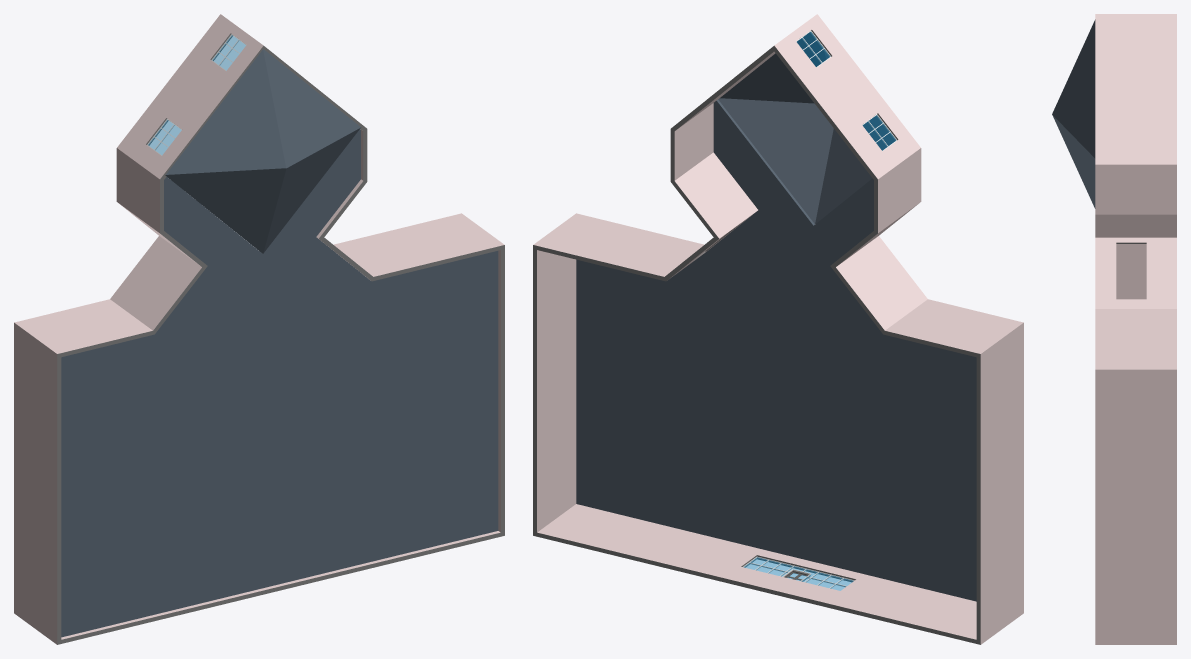
Rendered from williamEmslie.obj.
The picture shows the model from 3 angles, left to right: view 1: azimuth 30°, elevation 25°; view 2: azimuth 150°, elevation 25°; view 3: azimuth 270°, elevation 25°; orthographic projection. The views are drawn at different scales.
Visible parts, largest first — view 1: Generic - 12", Generic - 12":1, Generic - 12":2, CMU Assembly_01 SQUARE 4x4 tile exterior, CMU Assembly_01 SQUARE 4x4 tile exterior:10, CMU Assembly_01 SQUARE 4x4 tile exterior:4, CMU Assembly_01 SQUARE 4x4 tile exterior:7, CMU Assembly_01 SQUARE 4x4 tile exterior:8, CMU Assembly_01 SQUARE 4x4 tile exterior:13, CMU Assembly_01 SQUARE 4x4 tile exterior:1, CMU Assembly_01 SQUARE 4x4 tile exterior:5, CMU Assembly_01 SQUARE 4x4 tile exterior:2; view 2: Generic - 12", CMU Assembly_01 SQUARE 4x4 tile exterior:1, CMU Assembly_01 SQUARE 4x4 tile exterior, Generic - 12":1, Generic - 12":2, CMU Assembly_01 SQUARE 4x4 tile exterior:2, CMU Assembly_01 SQUARE 4x4 tile exterior:10, CMU Assembly_01 SQUARE 4x4 tile exterior:4, CMU Assembly_01 SQUARE 4x4 tile exterior:7, CMU Assembly_01 SQUARE 4x4 tile exterior:8, CMU Assembly_01 SQUARE 4x4 tile exterior:11, CMU Assembly_01 SQUARE 4x4 tile exterior:13 (+3 smaller); view 3: CMU Assembly_01 SQUARE 4x4 tile exterior:2, CMU Assembly_01 SQUARE 4x4 tile exterior:9, CMU Assembly_01 SQUARE 4x4 tile exterior:10, Generic - 12":1, CMU Assembly_01 SQUARE 4x4 tile exterior:12, CMU Assembly_01 SQUARE 4x4 tile exterior:3, CMU Assembly_01 SQUARE 4x4 tile exterior:11, CMU Assembly_01 SQUARE 4x4 tile exterior, CMU Assembly_01 SQUARE 4x4 tile exterior:1, CMU Assembly_01 SQUARE 4x4 tile exterior:4.
Part boxes in pixels (left/top/right/bottom): Generic - 12": left=61, top=251, right=498, bottom=637; Generic - 12":1: left=165, top=49, right=360, bottom=253; Generic - 12":2: left=157, top=129, right=368, bottom=331; CMU Assembly_01 SQUARE 4x4 tile exterior: left=14, top=321, right=61, bottom=644; CMU Assembly_01 SQUARE 4x4 tile exterior:10: left=333, top=214, right=500, bottom=279; CMU Assembly_01 SQUARE 4x4 tile exterior:4: left=132, top=26, right=265, bottom=184; CMU Assembly_01 SQUARE 4x4 tile exterior:7: left=110, top=236, right=204, bottom=335; CMU Assembly_01 SQUARE 4x4 tile exterior:8: left=18, top=299, right=152, bottom=357; CMU Assembly_01 SQUARE 4x4 tile exterior:13: left=121, top=18, right=233, bottom=154; CMU Assembly_01 SQUARE 4x4 tile exterior:1: left=61, top=531, right=504, bottom=643; CMU Assembly_01 SQUARE 4x4 tile exterior:5: left=116, top=143, right=163, bottom=236; CMU Assembly_01 SQUARE 4x4 tile exterior:2: left=458, top=213, right=504, bottom=532; Generic - 12": left=576, top=253, right=976, bottom=601; CMU Assembly_01 SQUARE 4x4 tile exterior:1: left=533, top=504, right=976, bottom=643; CMU Assembly_01 SQUARE 4x4 tile exterior: left=976, top=321, right=1023, bottom=644; Generic - 12":1: left=718, top=32, right=894, bottom=224; Generic - 12":2: left=705, top=99, right=873, bottom=287; CMU Assembly_01 SQUARE 4x4 tile exterior:2: left=533, top=213, right=579, bottom=532; CMU Assembly_01 SQUARE 4x4 tile exterior:10: left=537, top=214, right=704, bottom=279; CMU Assembly_01 SQUARE 4x4 tile exterior:4: left=790, top=14, right=921, bottom=173; CMU Assembly_01 SQUARE 4x4 tile exterior:7: left=833, top=236, right=927, bottom=335; CMU Assembly_01 SQUARE 4x4 tile exterior:8: left=885, top=299, right=1019, bottom=357; CMU Assembly_01 SQUARE 4x4 tile exterior:11: left=670, top=152, right=757, bottom=240; CMU Assembly_01 SQUARE 4x4 tile exterior:13: left=774, top=38, right=889, bottom=179; CMU Assembly_01 SQUARE 4x4 tile exterior:2: left=1095, top=368, right=1176, bottom=640; CMU Assembly_01 SQUARE 4x4 tile exterior:9: left=1095, top=14, right=1176, bottom=158; CMU Assembly_01 SQUARE 4x4 tile exterior:10: left=1095, top=309, right=1176, bottom=367; Generic - 12":1: left=1052, top=19, right=1095, bottom=208; CMU Assembly_01 SQUARE 4x4 tile exterior:12: left=1095, top=237, right=1176, bottom=308; CMU Assembly_01 SQUARE 4x4 tile exterior:3: left=1095, top=159, right=1176, bottom=209; CMU Assembly_01 SQUARE 4x4 tile exterior:11: left=1095, top=209, right=1176, bottom=237; CMU Assembly_01 SQUARE 4x4 tile exterior: left=1116, top=244, right=1146, bottom=299; CMU Assembly_01 SQUARE 4x4 tile exterior:1: left=1095, top=641, right=1176, bottom=644; CMU Assembly_01 SQUARE 4x4 tile exterior:4: left=1095, top=14, right=1146, bottom=17.
Bounding box in the file's own units: 162 × 190 × 41.28.
